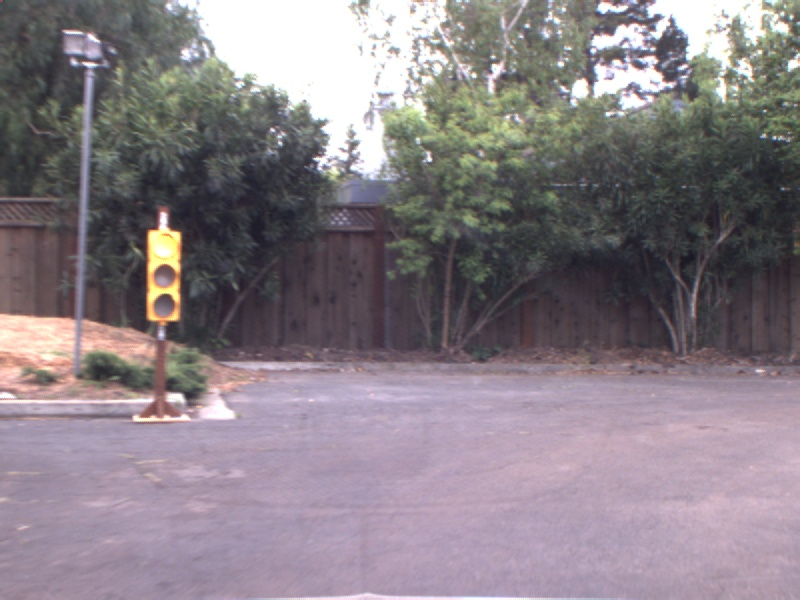red: (144, 225, 180, 322)
